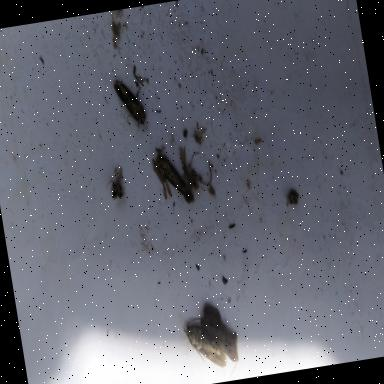pbw: (181, 316, 229, 374), (150, 144, 194, 207), (198, 310, 242, 366), (113, 77, 147, 128)
